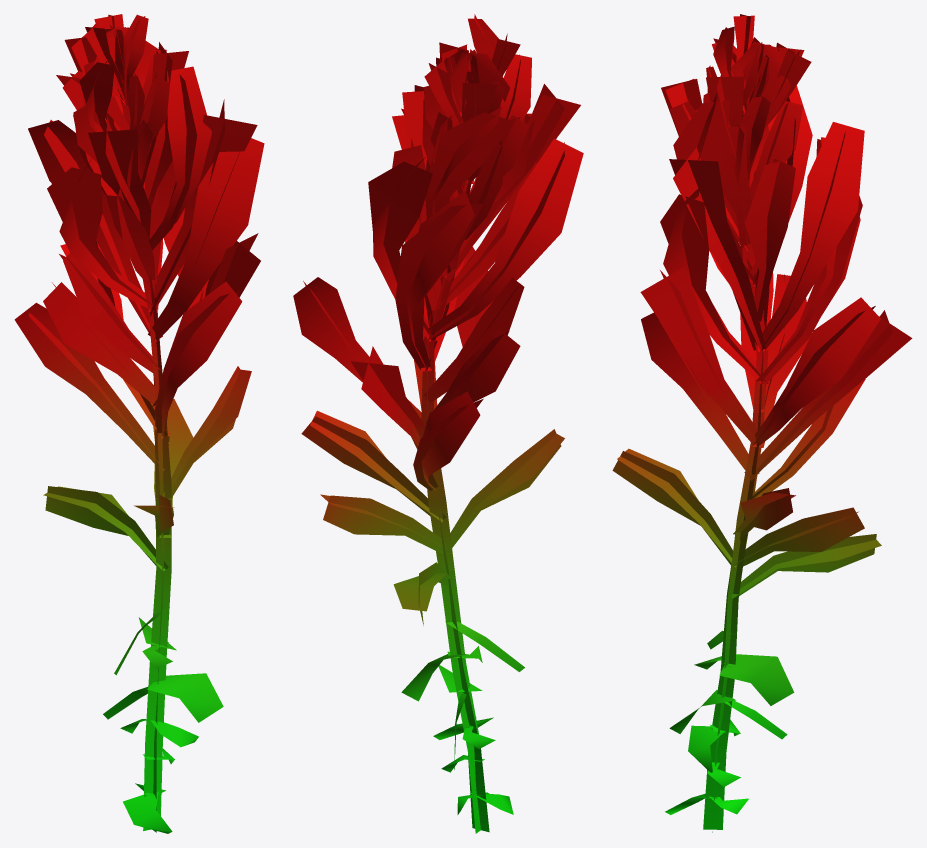
The model's file is Var5_LOD1.fbx.
3 views of the same model, side by side, from view 1: azimuth 30°, elevation 25°; view 2: azimuth 150°, elevation 25°; view 3: azimuth 270°, elevation 25° (orthographic). The views are drawn at different scales.
Visible parts, largest first — view 1: _ab7d_Var5_LOD1; view 2: _ab7d_Var5_LOD1; view 3: _ab7d_Var5_LOD1.
Part boxes in pixels (bbox=[...]): _ab7d_Var5_LOD1: bbox=[14, 14, 264, 833]; _ab7d_Var5_LOD1: bbox=[293, 14, 583, 833]; _ab7d_Var5_LOD1: bbox=[612, 14, 912, 832].
Size of the model in its own units: 26.87 by 92.61 by 31.43.
